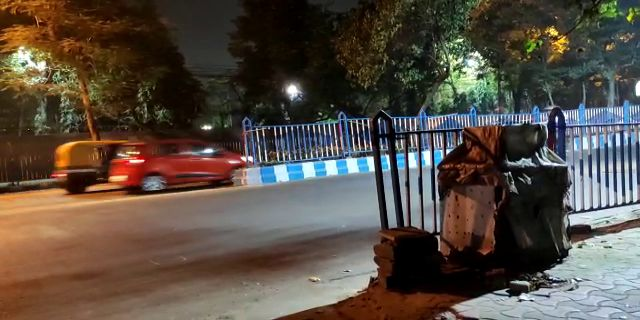Autorickshaw: (46, 139, 111, 187)
Car: (105, 138, 254, 194)
